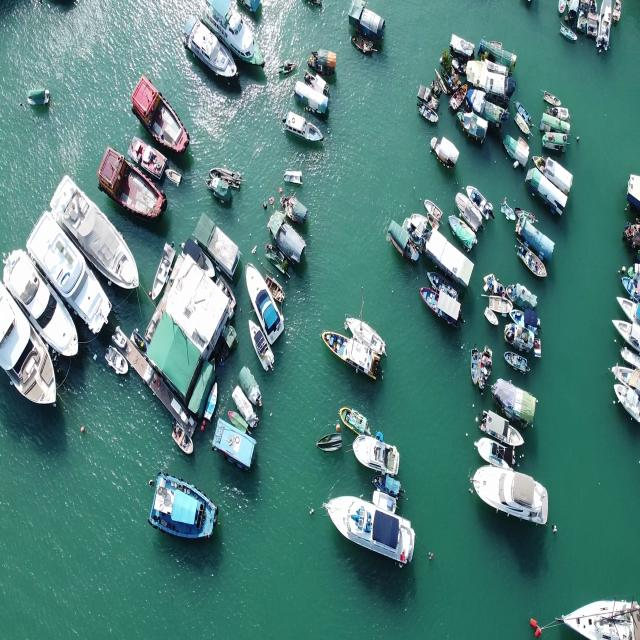ship: (48, 175, 144, 292), (30, 204, 109, 338), (8, 239, 82, 360), (0, 276, 62, 414), (326, 493, 419, 571), (468, 467, 556, 549), (96, 150, 166, 230), (143, 474, 218, 543), (130, 73, 193, 154), (176, 18, 243, 82), (555, 593, 636, 635), (212, 5, 264, 68), (321, 334, 385, 384), (476, 406, 532, 456), (247, 263, 282, 343), (338, 310, 393, 356), (283, 110, 327, 146), (104, 345, 136, 385), (156, 237, 174, 304), (469, 176, 496, 220), (170, 420, 198, 460), (334, 405, 374, 433), (304, 50, 342, 76), (243, 369, 264, 415), (207, 172, 235, 206), (497, 350, 531, 376), (512, 100, 532, 140), (372, 491, 404, 513), (558, 21, 580, 47), (481, 308, 501, 335), (320, 431, 344, 453), (469, 342, 479, 392), (479, 344, 489, 394), (282, 167, 306, 187), (512, 112, 532, 136), (426, 194, 443, 219), (27, 88, 51, 105), (276, 60, 298, 75)
